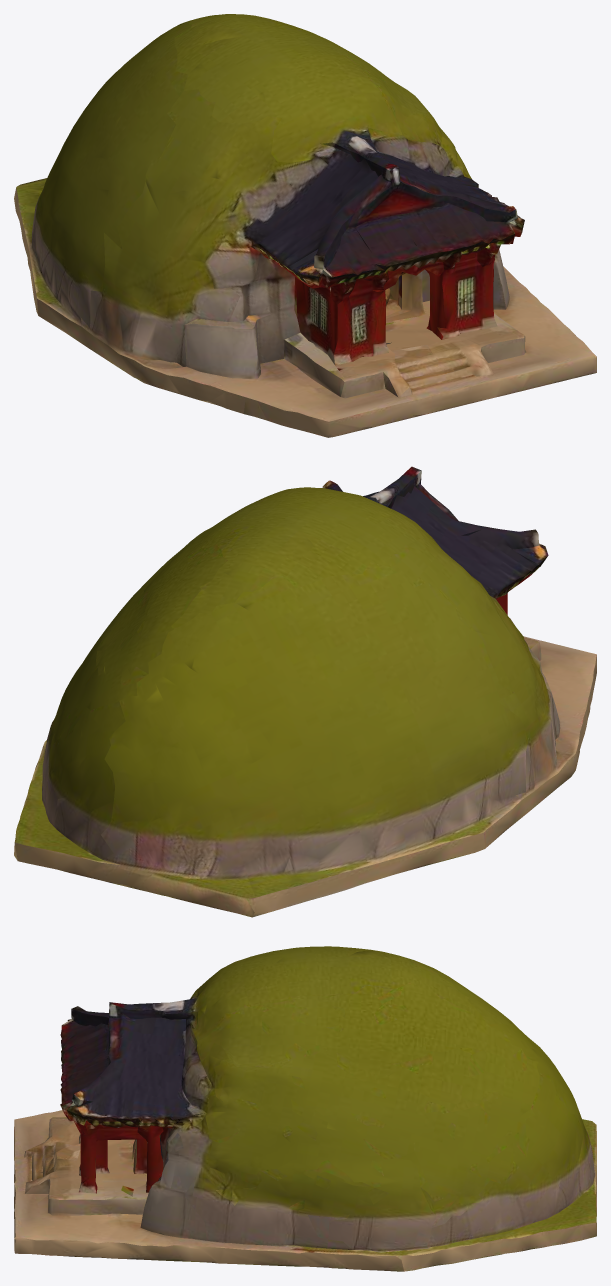
Rendered from seokguram.glb.
3 renders of one model, top to bottom at view 1: azimuth 30°, elevation 25°; view 2: azimuth 150°, elevation 25°; view 3: azimuth 270°, elevation 25°, orthographic. The views are drawn at different scales.
Parts seen in each view (by area): view 1: logan-textured.obj; view 2: logan-textured.obj; view 3: logan-textured.obj.
Part boxes in pixels (<box>): logan-textured.obj: <box>14,14,596,437</box>; logan-textured.obj: <box>14,466,596,917</box>; logan-textured.obj: <box>14,946,596,1271</box>.
Size of the model in its own units: 0.7232 by 0.422 by 1.
1 material, 1 textured.
